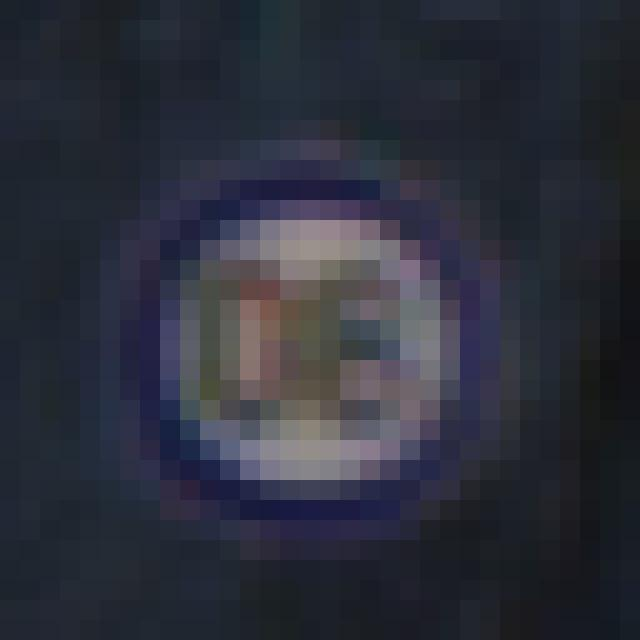SPEED-LIMIT-80: (123, 151, 515, 534)
